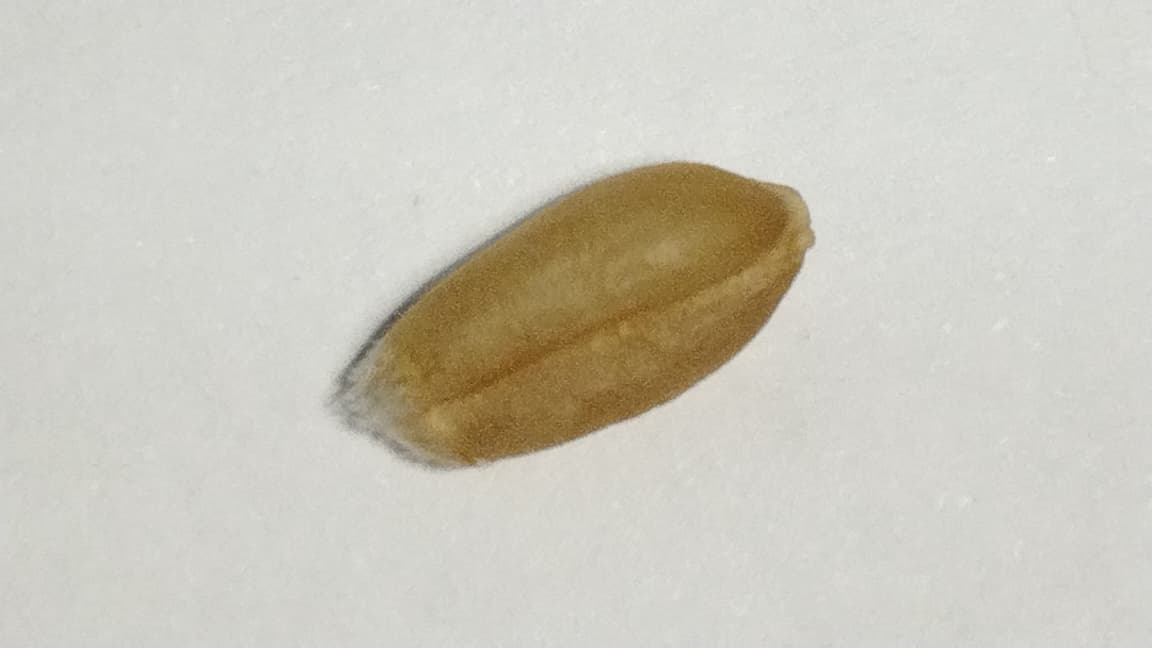healthy: (357, 162, 808, 460)
